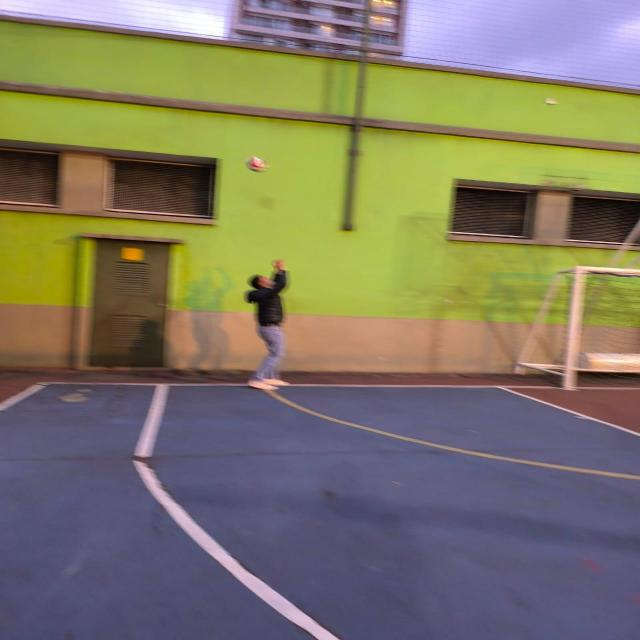volleyball: (244, 156, 268, 173)
